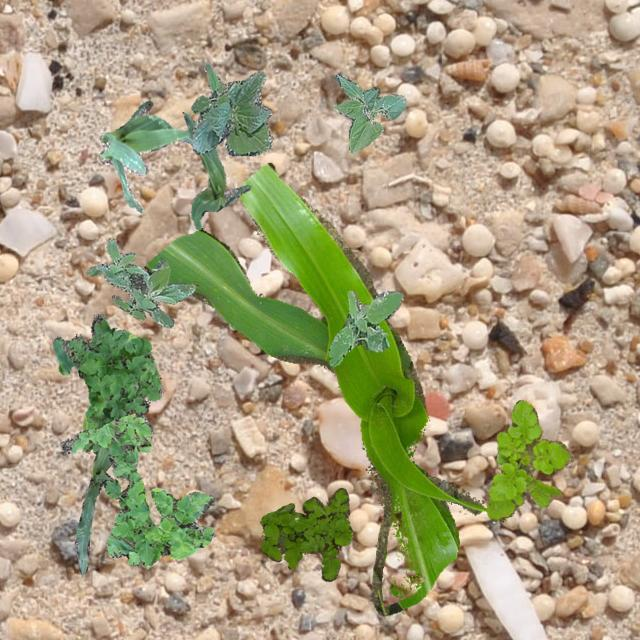crop: (143, 162, 486, 614), (98, 100, 192, 212), (182, 110, 248, 228), (190, 62, 270, 154), (332, 72, 406, 152), (74, 446, 112, 576)
weed: (59, 412, 212, 568), (51, 314, 162, 454), (486, 398, 572, 520), (84, 238, 194, 326), (258, 486, 352, 580), (328, 290, 402, 366)
